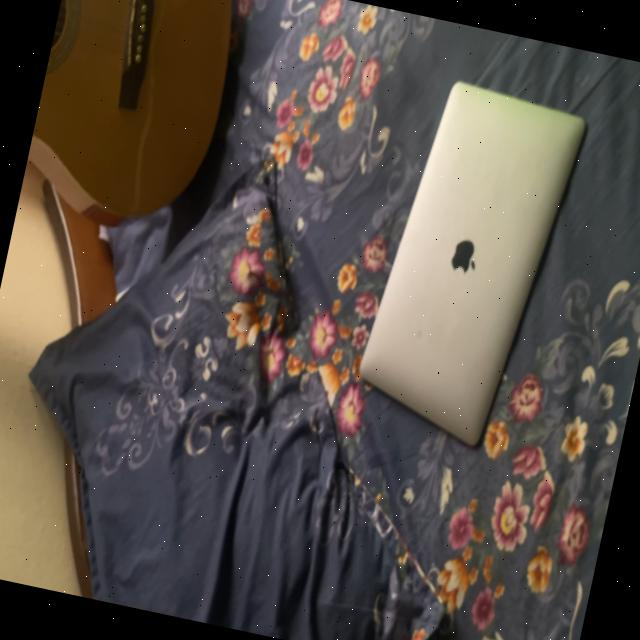guitar: (3, 0, 260, 310)
laptop: (335, 15, 584, 458)
